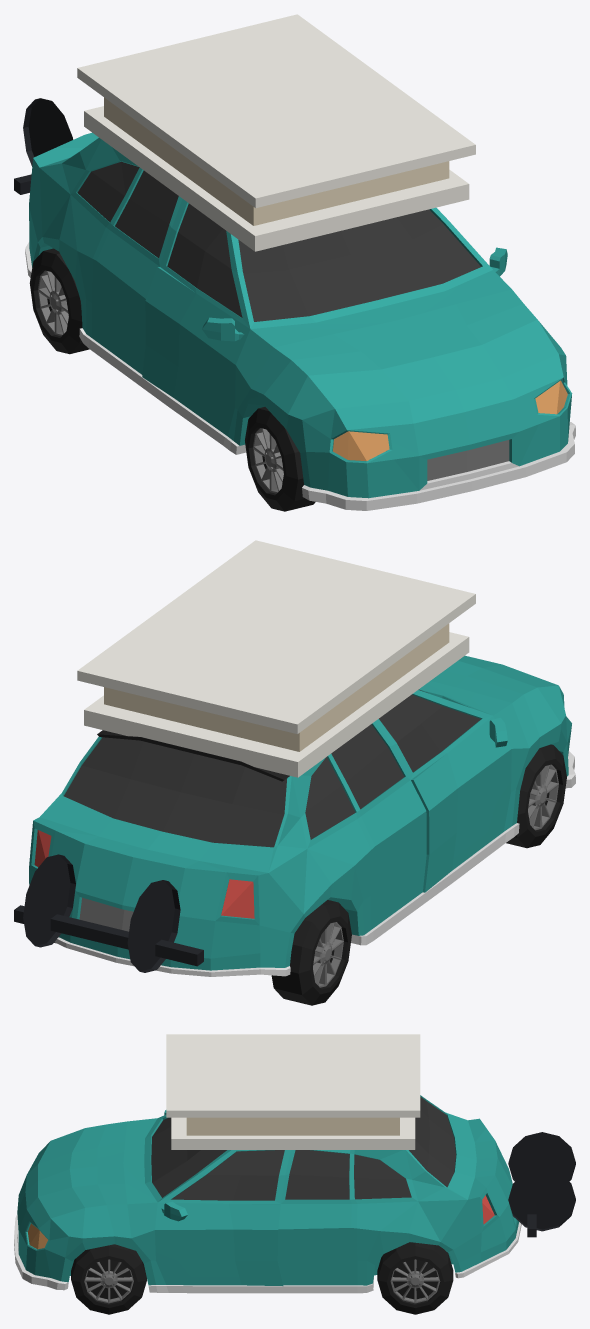
File: camper.glb
The picture shows the model from 3 angles, top to bottom: view 1: azimuth 30°, elevation 25°; view 2: azimuth 150°, elevation 25°; view 3: azimuth 270°, elevation 25°; orthographic projection. The views are drawn at different scales.
Visible parts, largest first — view 1: NormalCar2; view 2: NormalCar2; view 3: NormalCar2.
Part boxes in pixels (x1,y1,x2,y2): NormalCar2: [14, 14, 575, 511]; NormalCar2: [14, 540, 575, 1005]; NormalCar2: [14, 1034, 575, 1314].
Bounding box in the file's own units: 1.64 × 1.41 × 3.66.
